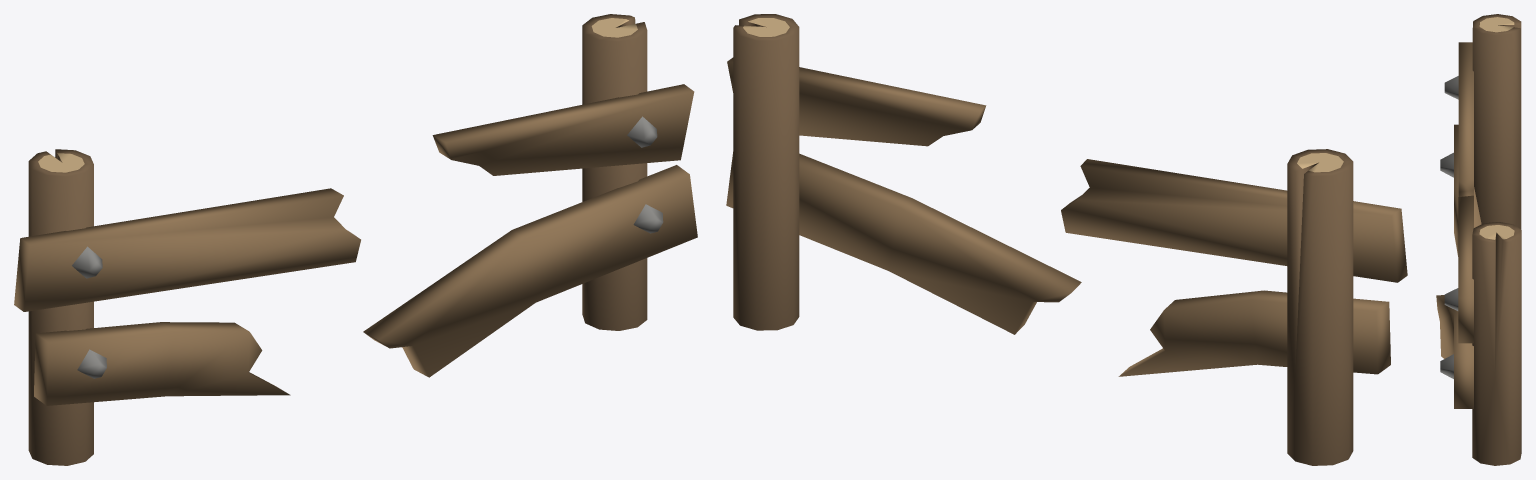
The model's file is rpgpp_av_fence_02b_3m.gltf.
The picture shows the model from 3 angles, left to right: view 1: azimuth 30°, elevation 25°; view 2: azimuth 150°, elevation 25°; view 3: azimuth 270°, elevation 25°; orthographic projection. The views are drawn at different scales.
Visible parts, largest first — view 1: rpgpp_av_fence_02b_3m; view 2: rpgpp_av_fence_02b_3m; view 3: rpgpp_av_fence_02b_3m.
Boxes of the visible parts, <box> form: rpgpp_av_fence_02b_3m: <box>14,14,697,465</box>; rpgpp_av_fence_02b_3m: <box>726,14,1407,465</box>; rpgpp_av_fence_02b_3m: <box>1436,14,1521,465</box>.
Size of the model in its own units: 0.0326 by 0.0135 by 0.00468.
Materials: 1 (1 with a texture image).
